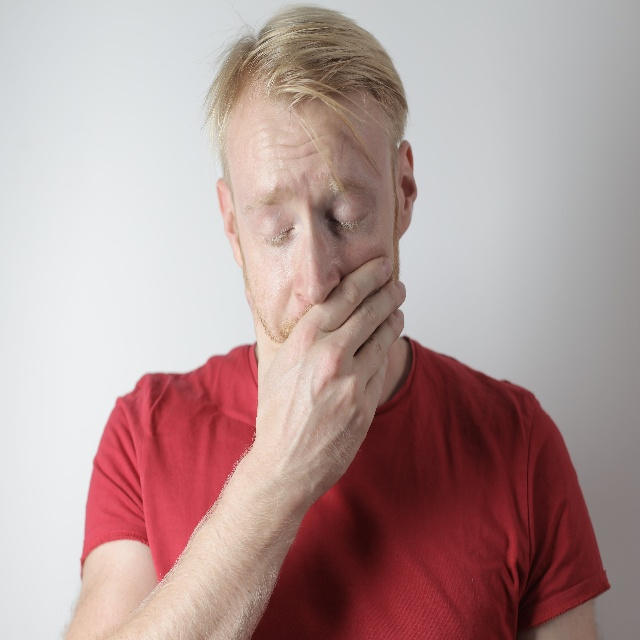Sin_guantes: (243, 255, 406, 499)
